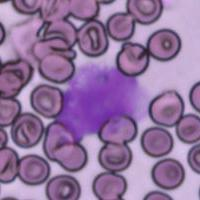D: (55, 62, 150, 141)
